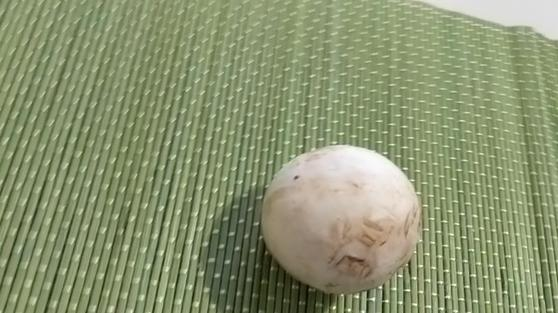champignon: (260, 143, 422, 293)
